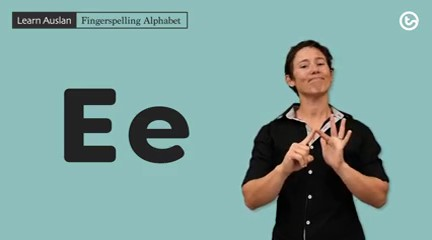E: (280, 113, 356, 176)
